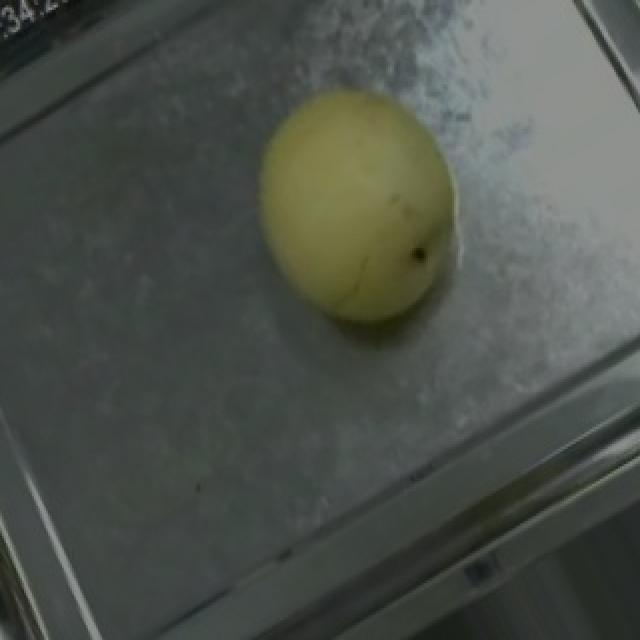Fruit: (208, 42, 508, 370)
